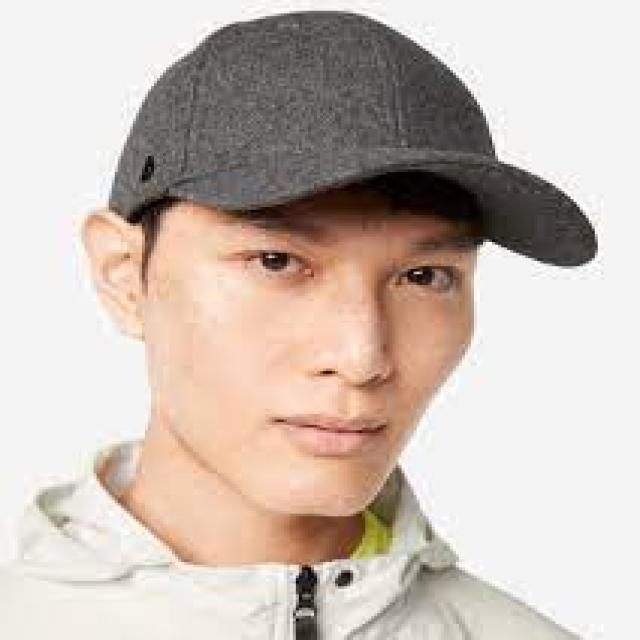cap: (91, 0, 620, 289)
